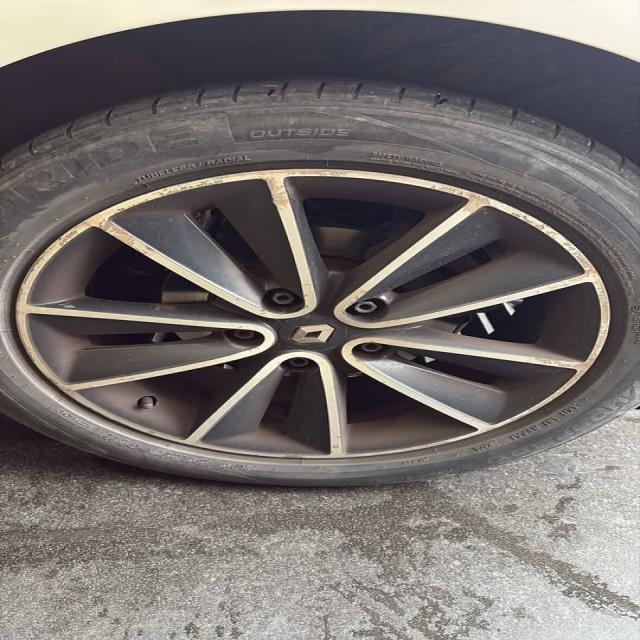jante: (8, 164, 614, 457)
parafuso: (205, 321, 270, 351), (252, 288, 310, 313), (341, 294, 391, 322), (340, 341, 396, 362), (264, 354, 322, 374)
roda: (0, 82, 640, 489)
